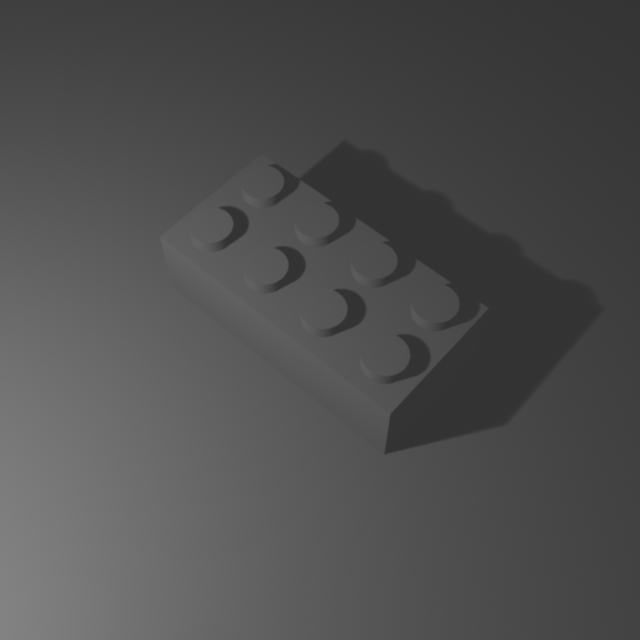lego_2x4: (157, 144, 491, 455)
